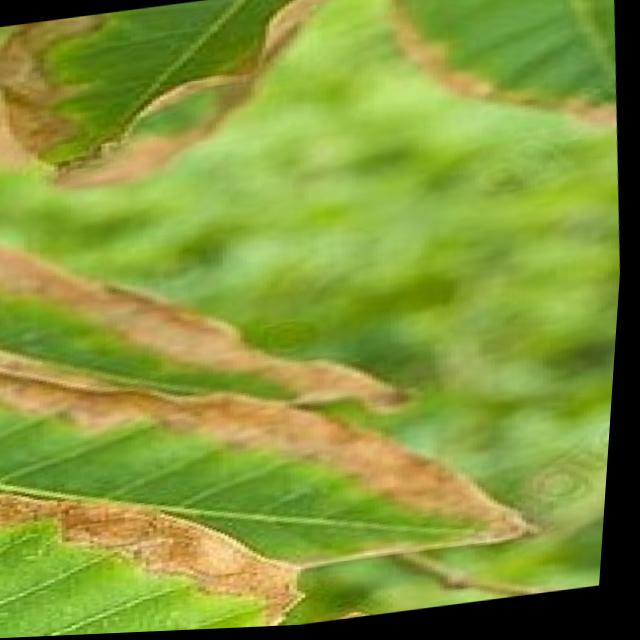Leaf Blight: (0, 144, 567, 640), (0, 0, 302, 188)
